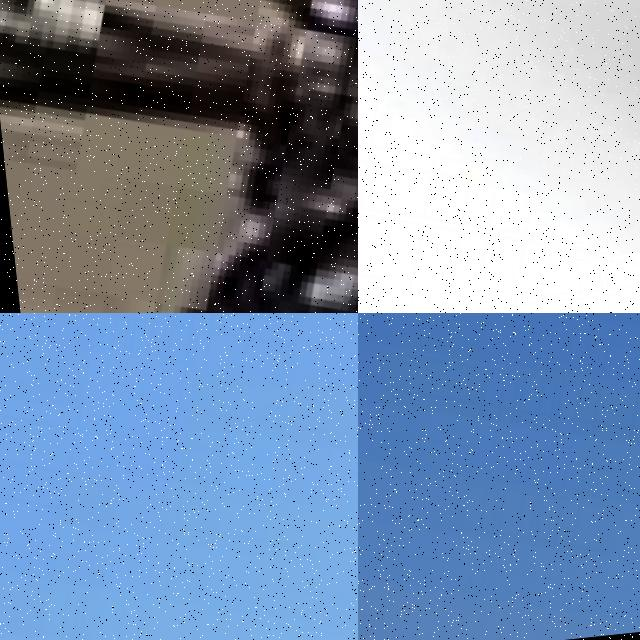0: (0, 313, 358, 640), (0, 0, 358, 313), (358, 313, 640, 640)
drone: (358, 0, 640, 308)
